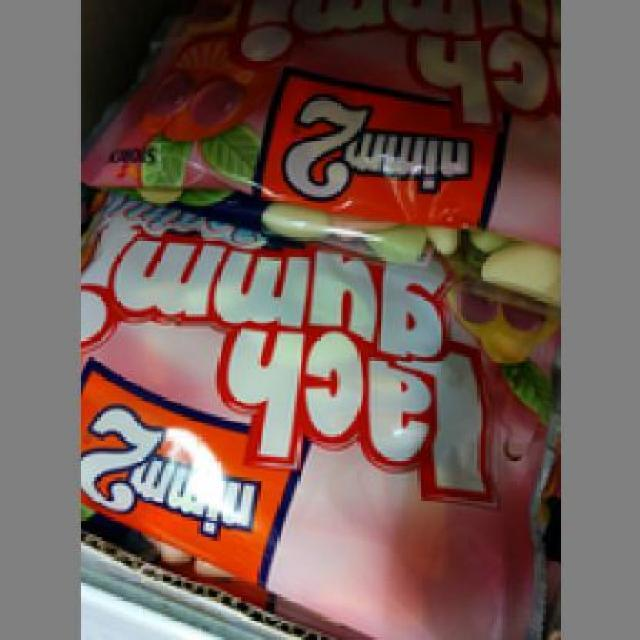Candy: (79, 191, 555, 624)
